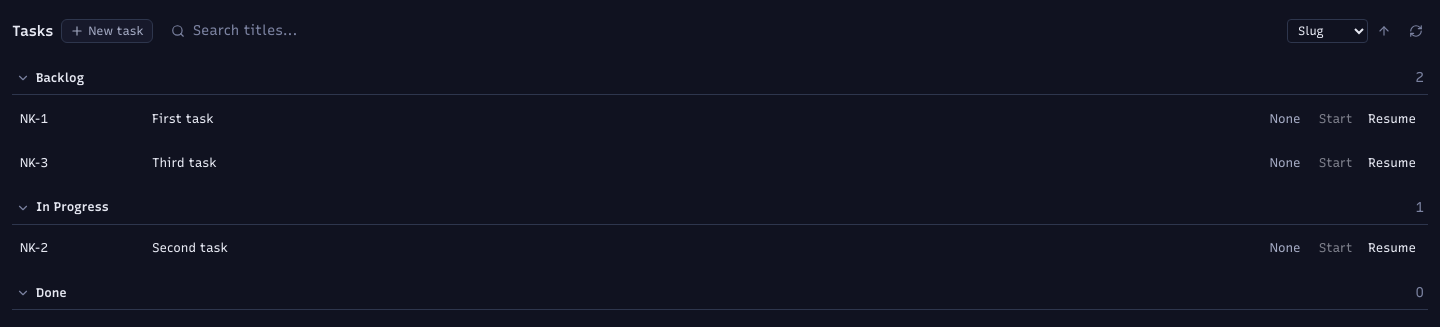
Test: cached background refresh › retains and updates review, keeps cached data after failure, retries and closes a removed review
What coordinates should you click on to do the following:
click the button "First task"
I would click on:
 (183, 119)
Its box is [150, 108, 216, 131].
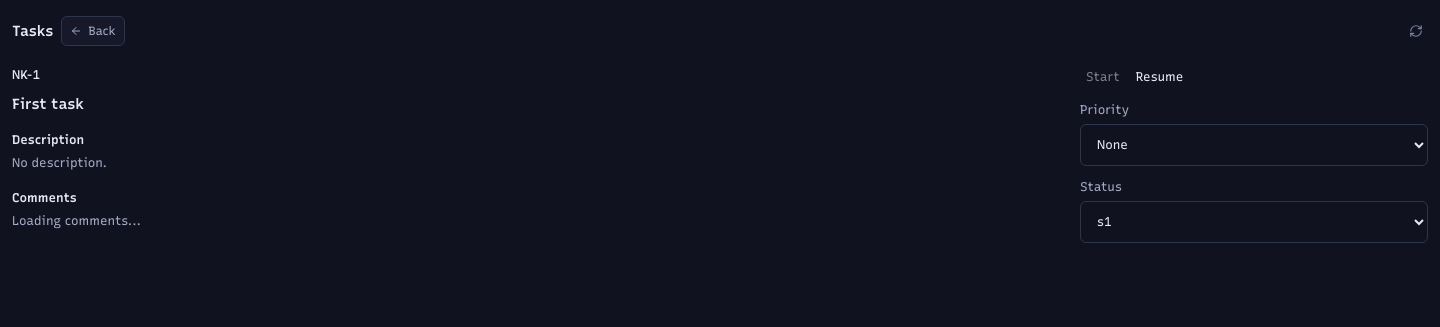
What coordinates should you click on to do the following:
click the button with test id "kanban-board-refresh"
I would click on:
 (1416, 31)
Its box is [1404, 19, 1428, 43].
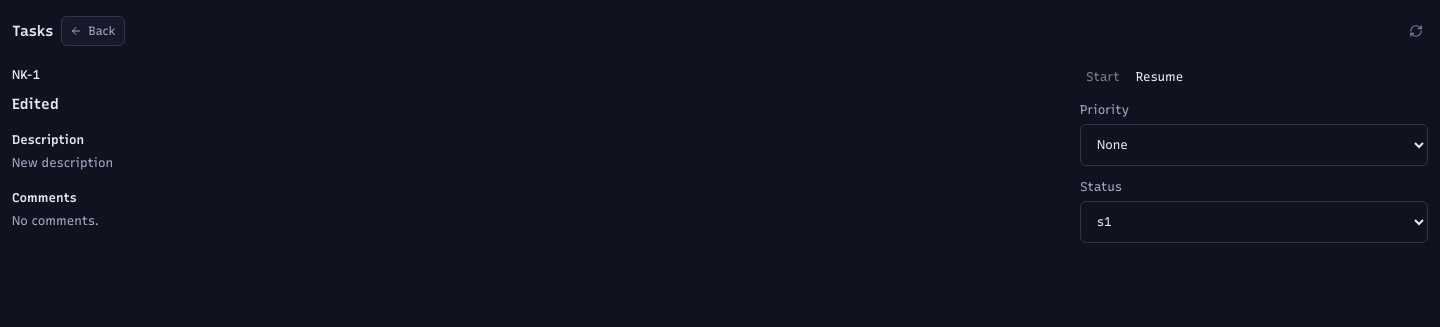
Now the heading with test id "kanban-review-title" reads "Edited", box [12, 95, 59, 113]
What coordinates should you click on to do the following:
click the button with test id "kanban-board-refresh"
I would click on:
 (1416, 31)
Its box is [1404, 19, 1428, 43].
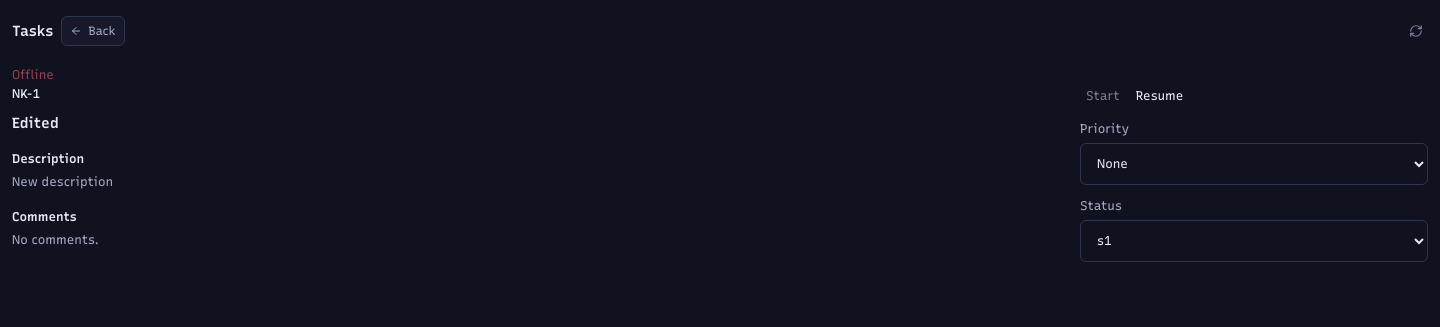
Now the message reads "Offline", box [12, 67, 54, 82]
What coordinates should you click on to do the following:
click the button with test id "kanban-board-refresh"
I would click on:
 (1416, 31)
Its box is [1404, 19, 1428, 43].
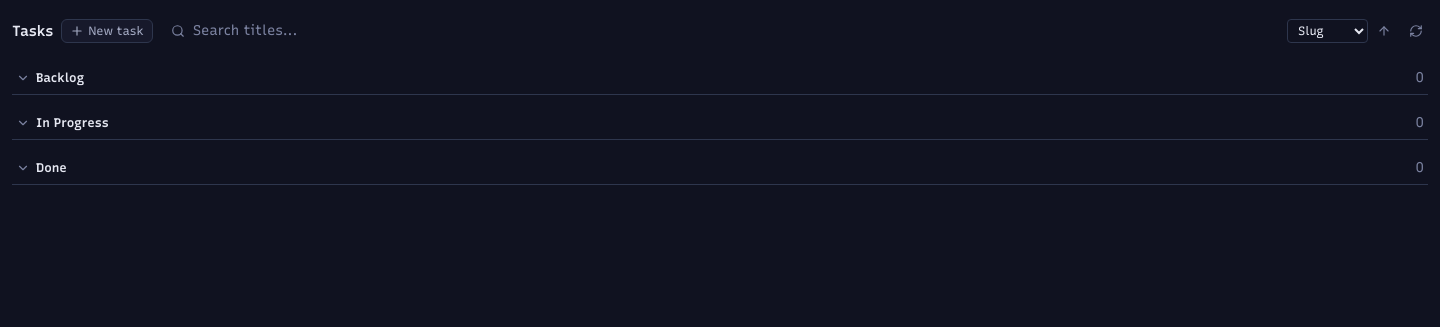
Now the element with test id "kanban-review" is gone
Now the element with test id "kanban-list" is shown, box [12, 66, 1428, 189]
